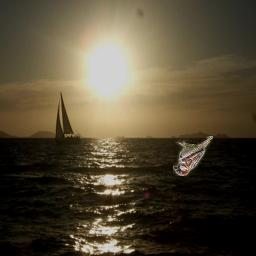Sparrow: (173, 136, 213, 176)
